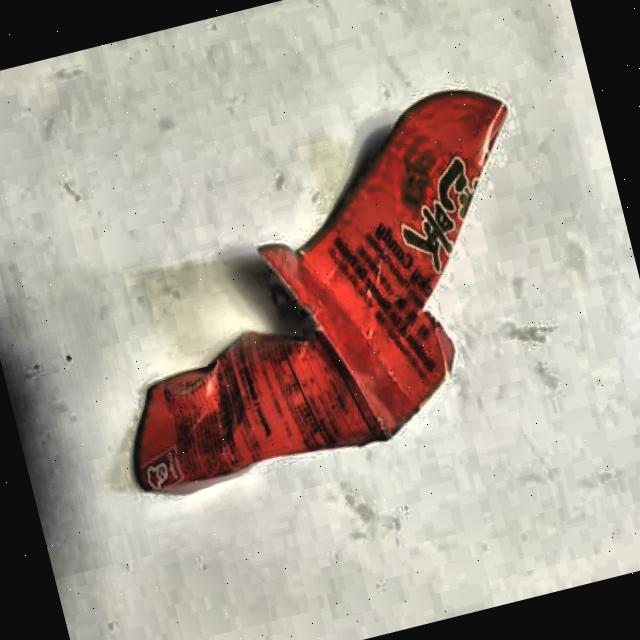paper: (61, 68, 578, 506)
